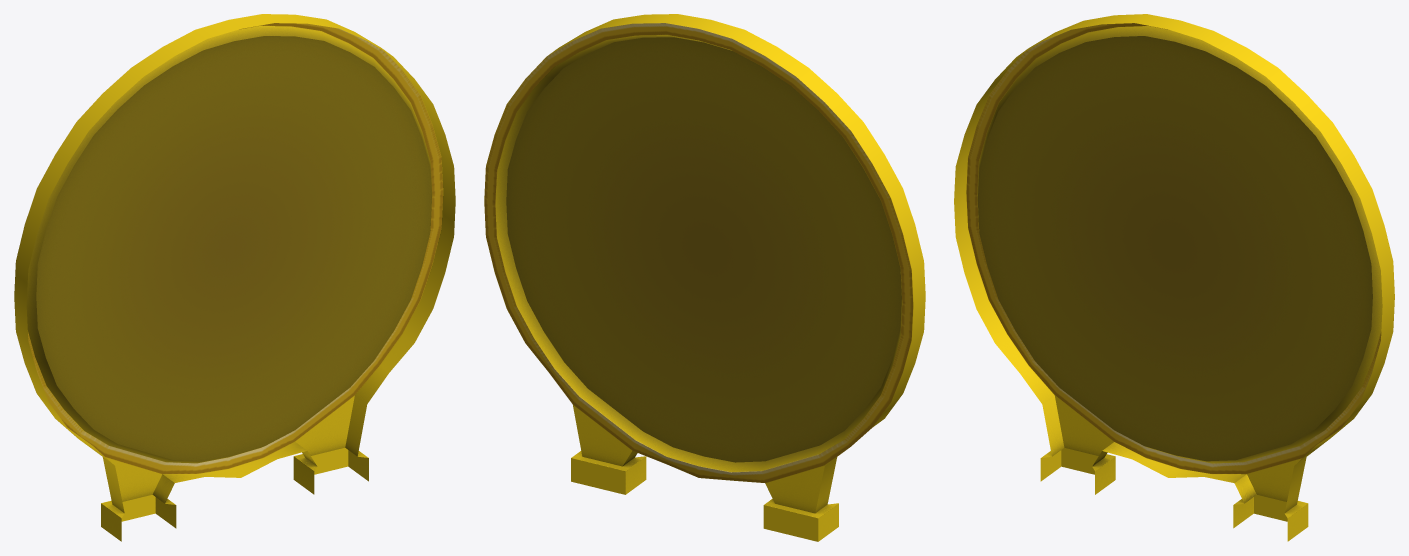
Rendered from Portal01.fbx.
3 renders of one model, left to right at view 1: azimuth 30°, elevation 25°; view 2: azimuth 150°, elevation 25°; view 3: azimuth 330°, elevation 25°, orthographic.
Visible parts, largest first — view 1: Potal; view 2: Potal; view 3: Potal.
Boxes of the visible parts, x1=… form: Potal: x1=14, y1=14, x2=455, y2=541; Potal: x1=484, y1=14, x2=925, y2=541; Potal: x1=954, y1=14, x2=1394, y2=541.
Size of the model in its own units: 517 by 552 by 43.12.
